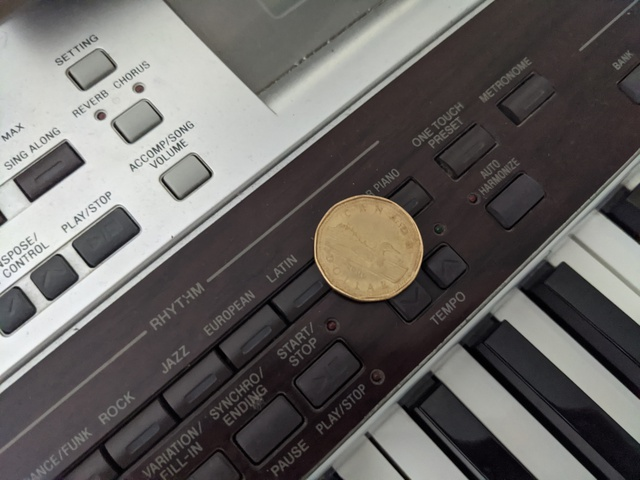loonie: (309, 182, 432, 301)
